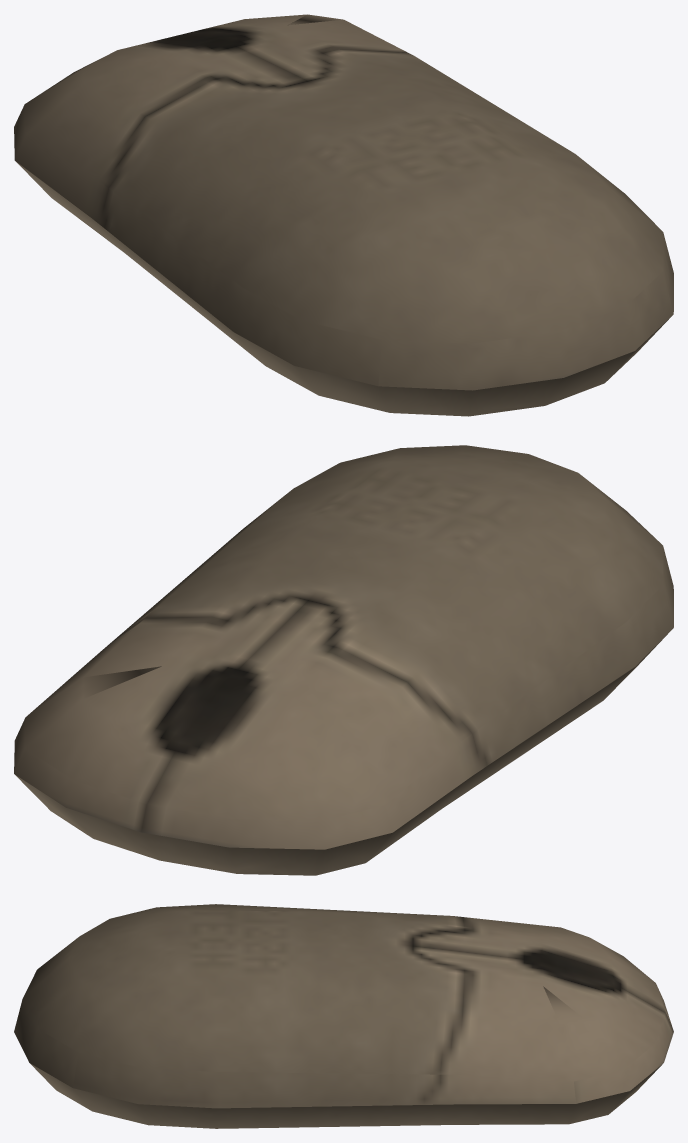
The model's file is pc_mouse_mp_1.dae.
3 views of the same model, one above another, from view 1: azimuth 30°, elevation 25°; view 2: azimuth 150°, elevation 25°; view 3: azimuth 270°, elevation 25° (orthographic). The views are drawn at different scales.
Visible parts, largest first — view 1: pc_mouse_mp_1; view 2: pc_mouse_mp_1; view 3: pc_mouse_mp_1.
Part boxes in pixels (<box>): pc_mouse_mp_1: <box>14,14,673,416</box>; pc_mouse_mp_1: <box>14,445,673,875</box>; pc_mouse_mp_1: <box>14,904,673,1128</box>.
Bounding box in the file's own units: 0.0809 × 0.1475 × 0.0315.
Materials: 1 (1 with a texture image).
